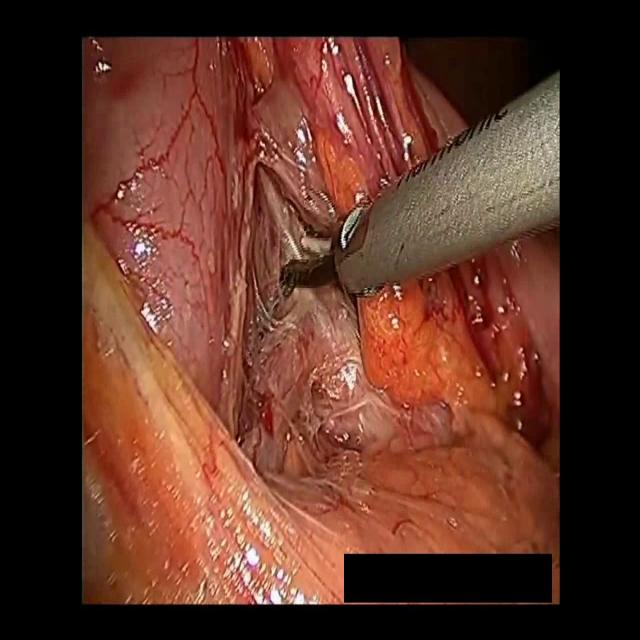surgical-area: (82, 37, 562, 601)
surgical-tool: (283, 68, 562, 300)
